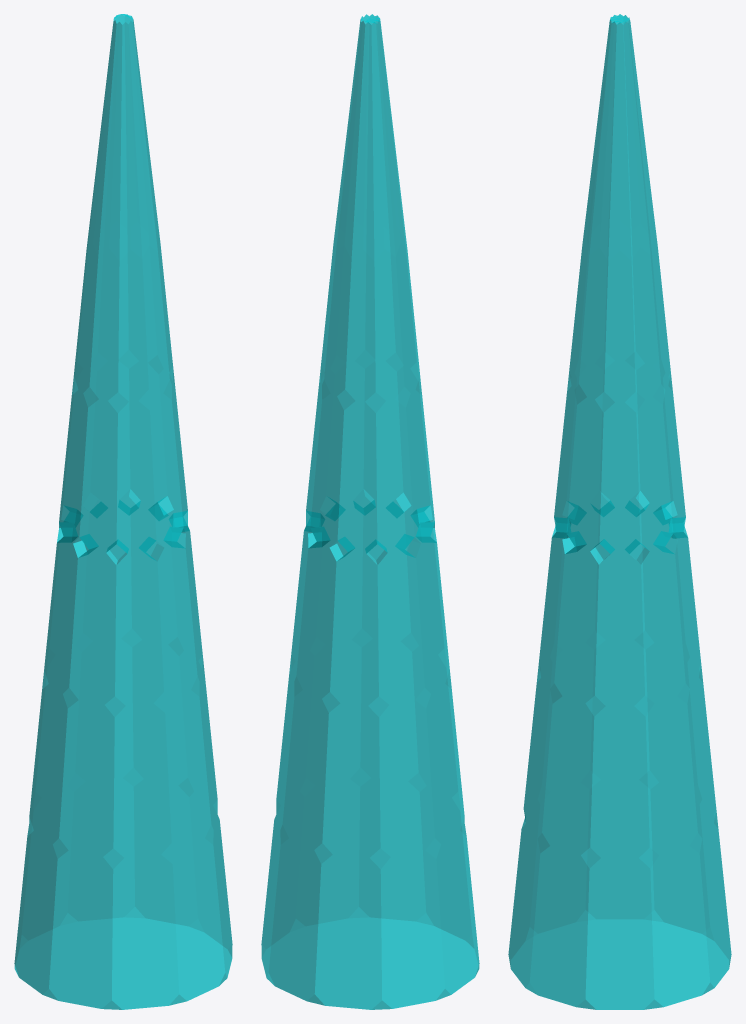
The model's file is Ice3.fbx.
3 renders of one model, left to right at view 1: azimuth 30°, elevation 25°; view 2: azimuth 150°, elevation 25°; view 3: azimuth 270°, elevation 25°, orthographic.
Parts seen in each view (by area): view 1: Cylinder.007; view 2: Cylinder.007; view 3: Cylinder.007.
Part boxes in pixels (x1,y1,x2,y2): Cylinder.007: (14, 14, 232, 1009); Cylinder.007: (261, 14, 479, 1009); Cylinder.007: (508, 14, 731, 1009).
Size of the model in its own units: 46.64 by 227 by 48.58.
